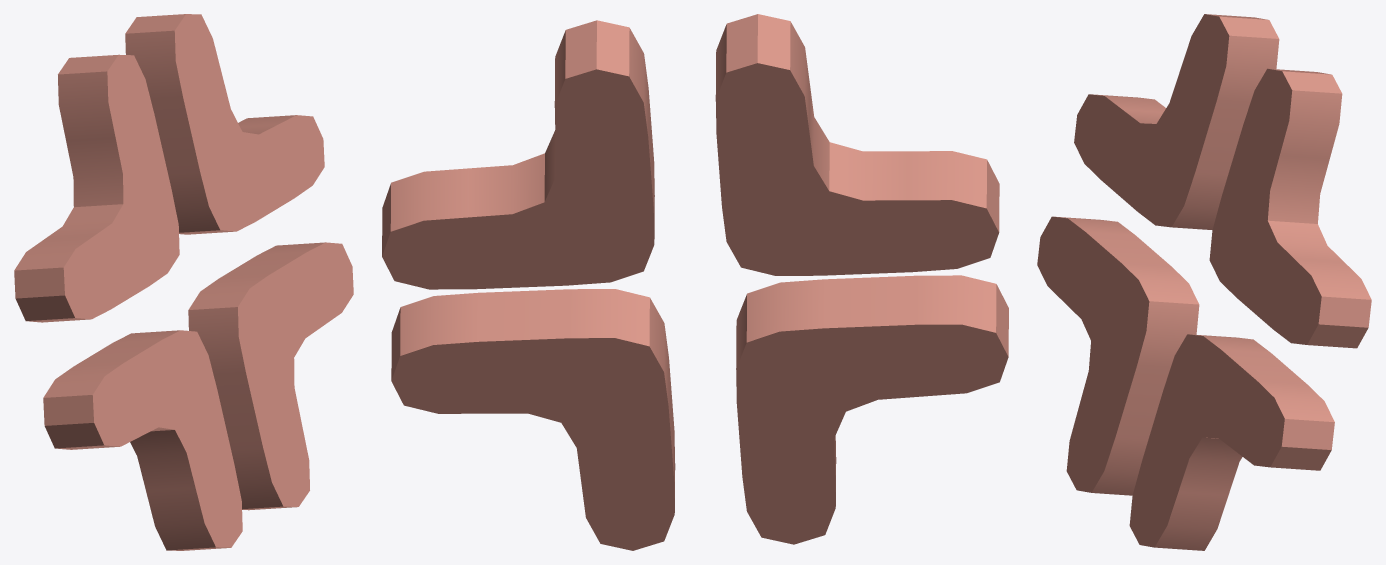
3 renders of one model, left to right at view 1: azimuth 30°, elevation 25°; view 2: azimuth 150°, elevation 25°; view 3: azimuth 270°, elevation 25°, orthographic. The views are drawn at different scales.
Visible parts, largest first — view 1: angry_mark; view 2: angry_mark; view 3: angry_mark.
Part boxes in pixels (left/top/right/bottom): angry_mark: left=14, top=14, right=353, bottom=550; angry_mark: left=382, top=14, right=1008, bottom=550; angry_mark: left=1037, top=14, right=1371, bottom=550.
Bounding box in the file's own units: 0.1597 × 0.1743 × 0.1113.
